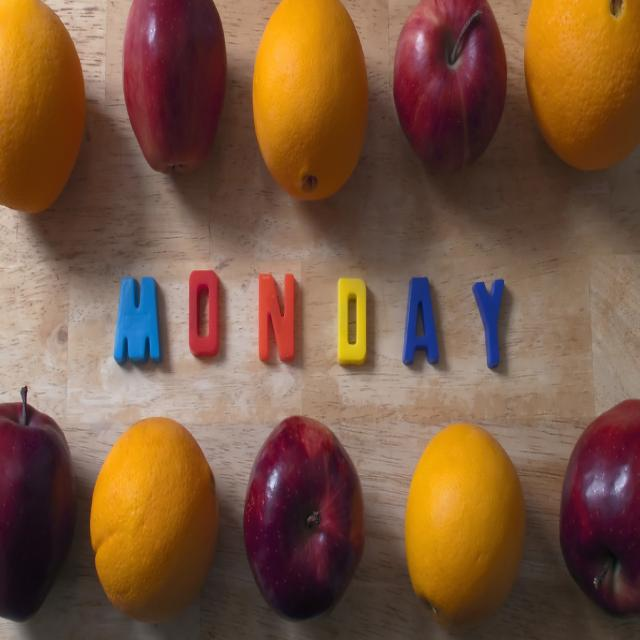Lemon: (90, 416, 220, 619), (250, 0, 369, 200), (406, 424, 528, 619), (520, 0, 640, 172), (0, 0, 88, 215)
